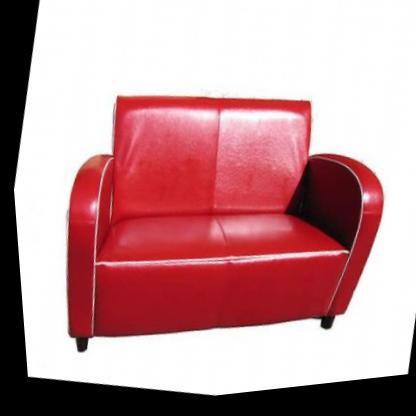Sofa: (28, 48, 411, 414)
